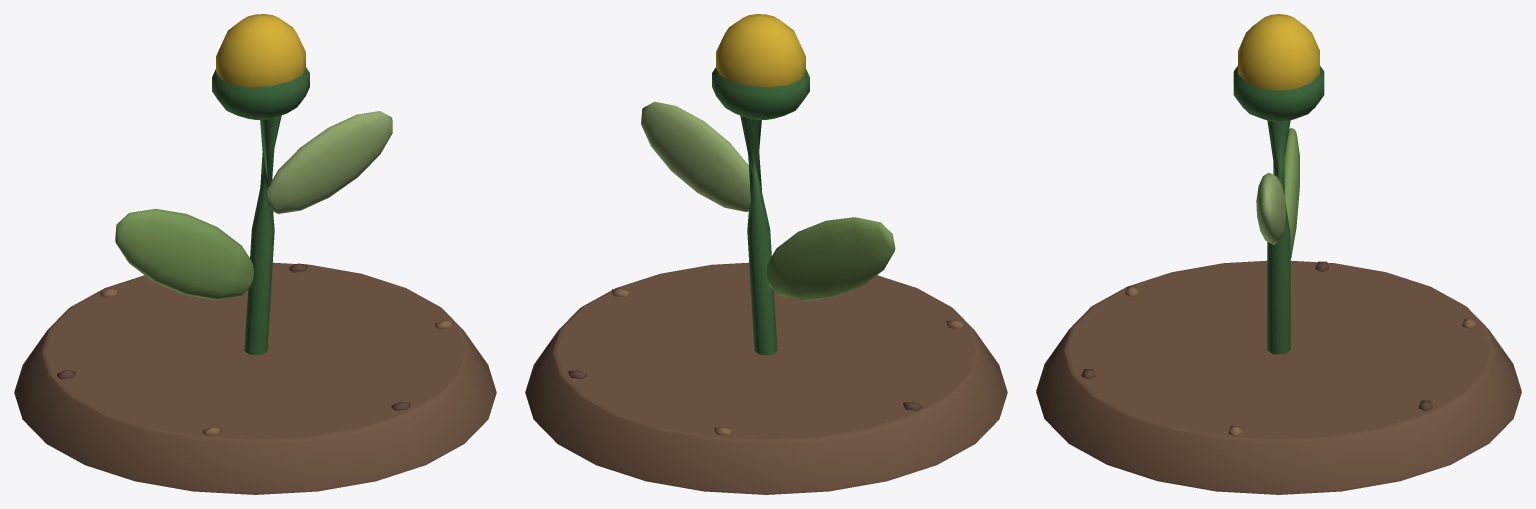
File: flower_stage2_yellow.glb
The picture shows the model from 3 angles, left to right: view 1: azimuth 30°, elevation 25°; view 2: azimuth 150°, elevation 25°; view 3: azimuth 270°, elevation 25°; orthographic projection.
Bounding box in the file's own units: 0.3775 × 0.324 × 0.3775.
